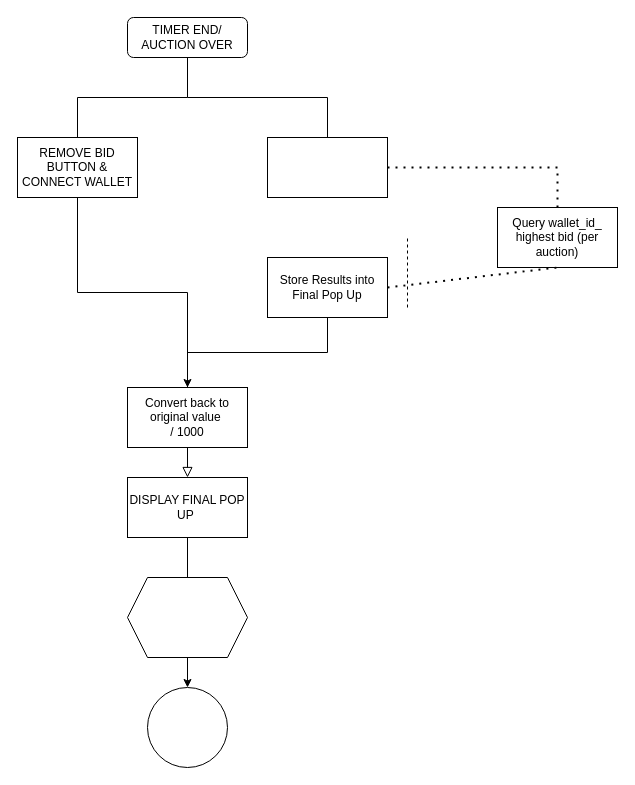
Image size: 635x785. Some labels were removed from this diagram. Each missing label, with the box of its shape:
Fetch wallet_id highest bid (per auction): (266, 136, 388, 198)
Manually set price of nft and send winner link to buy: (126, 576, 248, 658)
USER BUY: (146, 686, 228, 768)
